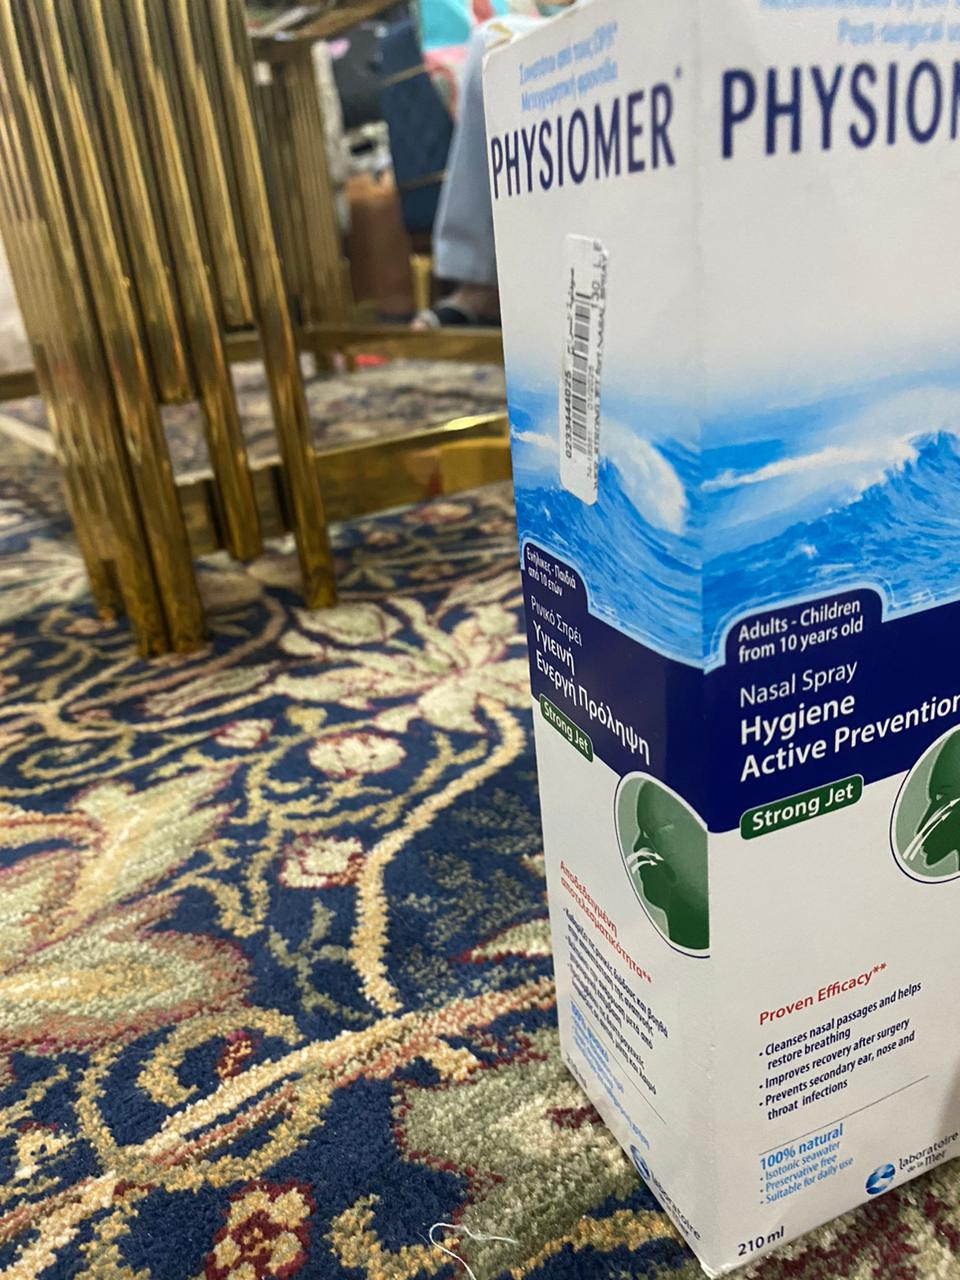Physiomer: (469, 4, 960, 1275)
